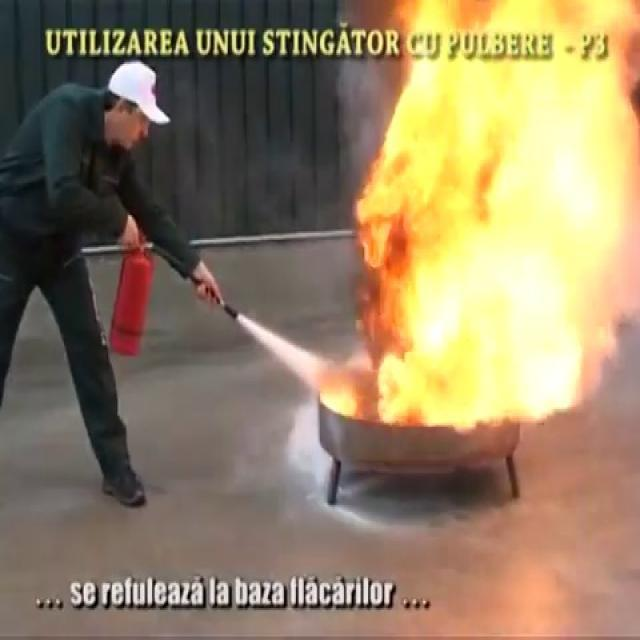Fire: (324, 0, 640, 439)
